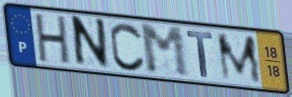C: (108, 20, 147, 73)
H: (34, 13, 72, 67)
M: (138, 23, 192, 80), (214, 33, 265, 85)
N: (72, 14, 111, 71)
T: (184, 30, 215, 80)
